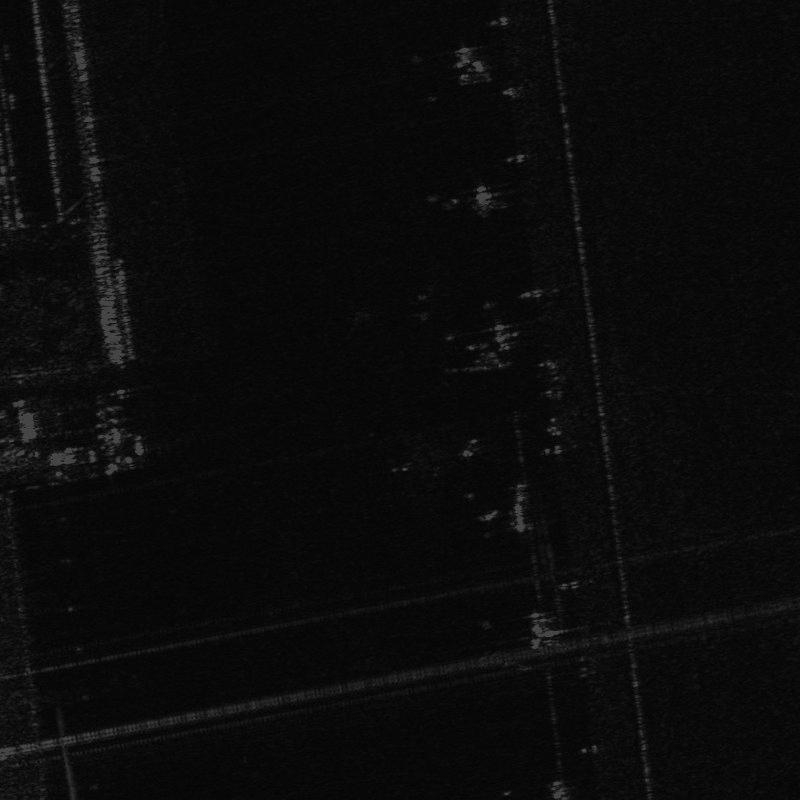A220: (382, 427, 468, 501)
